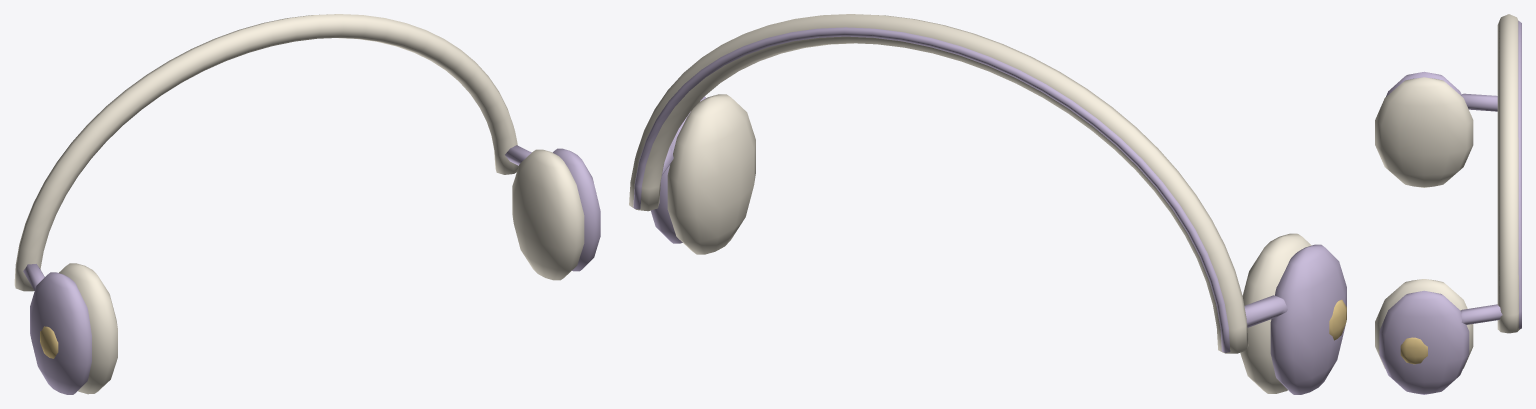
Rendered from headphones.glb.
The picture shows the model from 3 angles, left to right: view 1: azimuth 30°, elevation 25°; view 2: azimuth 150°, elevation 25°; view 3: azimuth 270°, elevation 25°; orthographic projection. The views are drawn at different scales.
Parts seen in each view (by area): view 1: Cream headphone arch, Cream ear cushion 1, Lavender ear cup 0, Cream ear cushion 0, Lavender ear cup 1; view 2: Cream headphone arch, Cream ear cushion 1, Lavender ear cup 0, Lavender arch inset, Cream ear cushion 0, Lavender ear cup 1, Headphone hinge 0; view 3: Cream ear cushion 0, Cream headphone arch, Lavender ear cup 1, Cream ear cushion 1, Lavender arch inset, Headphone hinge 1, Gold cup button 1, Headphone hinge 0, Lavender ear cup 0.
Boxes of the visible parts, x1,y1,x2,y2 form: Cream headphone arch: (14,14,518,291); Cream ear cushion 1: (512,149,584,280); Lavender ear cup 0: (30,272,91,394); Cream ear cushion 0: (59,263,117,394); Lavender ear cup 1: (553,148,600,271); Cream headphone arch: (629,14,1248,353); Cream ear cushion 1: (667,94,755,254); Lavender ear cup 0: (1270,244,1346,394); Lavender arch inset: (633,27,1230,352); Cream ear cushion 0: (1240,233,1311,393); Lavender ear cup 1: (651,96,705,243); Headphone hinge 0: (1244,295,1287,327); Cream ear cushion 0: (1375,77,1473,187); Cream headphone arch: (1497,14,1520,333); Lavender ear cup 1: (1379,290,1469,394); Cream ear cushion 1: (1375,279,1473,368); Lavender arch inset: (1518,21,1521,329); Headphone hinge 1: (1460,304,1502,324); Gold cup button 1: (1400,337,1427,364); Headphone hinge 0: (1461,93,1497,111); Lavender ear cup 0: (1386,71,1461,96).
Bounding box in the file's own units: 1.28 × 0.615 × 0.3347.
